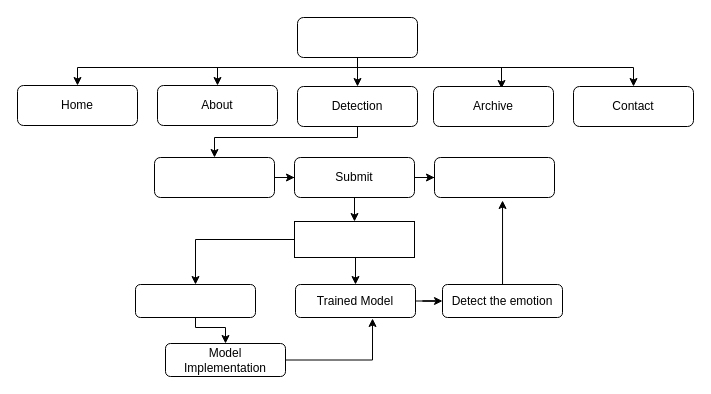
This 711x394 diagram has some shape labels left out. Here are the shapes that lost their labels. From the top down, the centre of each, then its label:
At point (357, 37): "Frontend".
At point (214, 177): "Enter Input Text".
At point (494, 177): "Output".
At point (354, 239): "Backend".
At point (195, 301): "Data Process".
